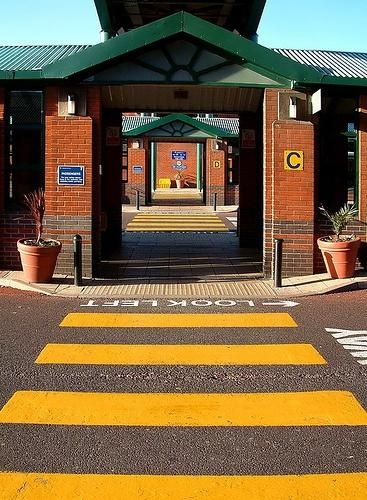pottedplant: (18, 188, 61, 284), (318, 204, 361, 279), (174, 169, 187, 189)
